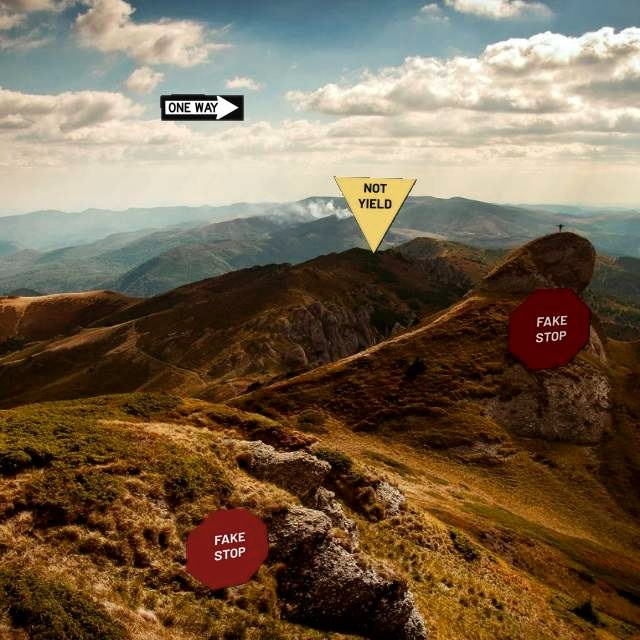FAKE_STOP: (185, 507, 269, 591), (507, 288, 591, 371)
NOT_YIELD: (333, 176, 417, 255)
ONE_WAY_ right: (160, 94, 244, 121)
